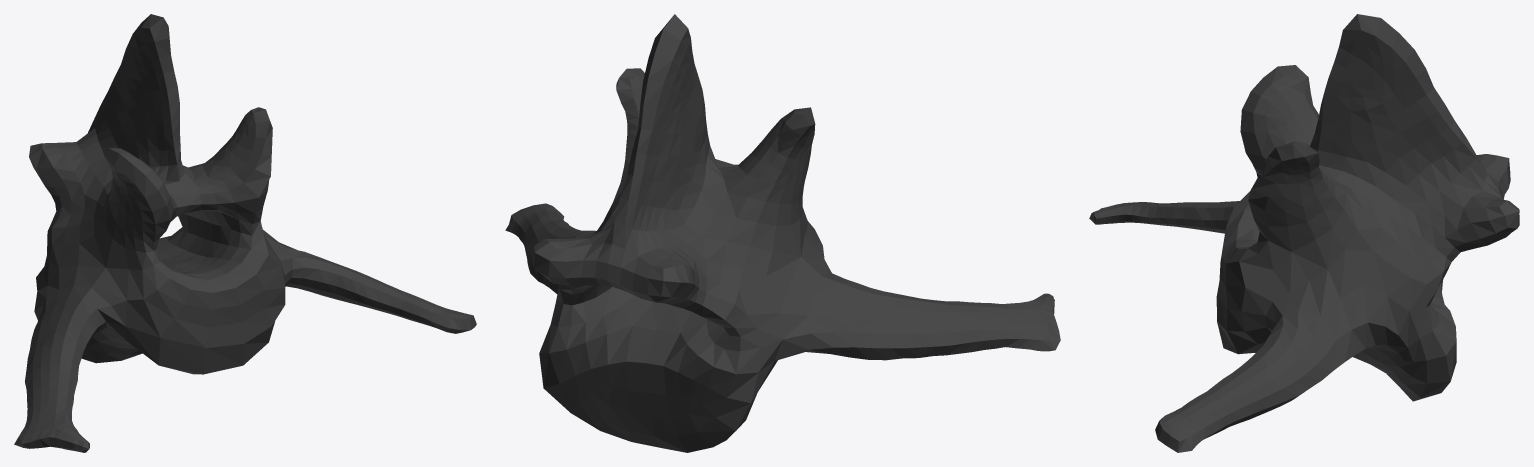
The picture shows the model from 3 angles, left to right: view 1: azimuth 30°, elevation 25°; view 2: azimuth 150°, elevation 25°; view 3: azimuth 270°, elevation 25°; orthographic projection. The views are drawn at different scales.
Parts seen in each view (by area): view 1: L5; view 2: L5; view 3: L5.
Part boxes in pixels (left/top/right/bottom): L5: left=14, top=14, right=476, bottom=452; L5: left=505, top=14, right=1060, bottom=452; L5: left=1089, top=14, right=1519, bottom=452.
Bounding box in the file's own units: 4.47 × 3.23 × 3.33.
Materials: 1 (1 with a texture image).
